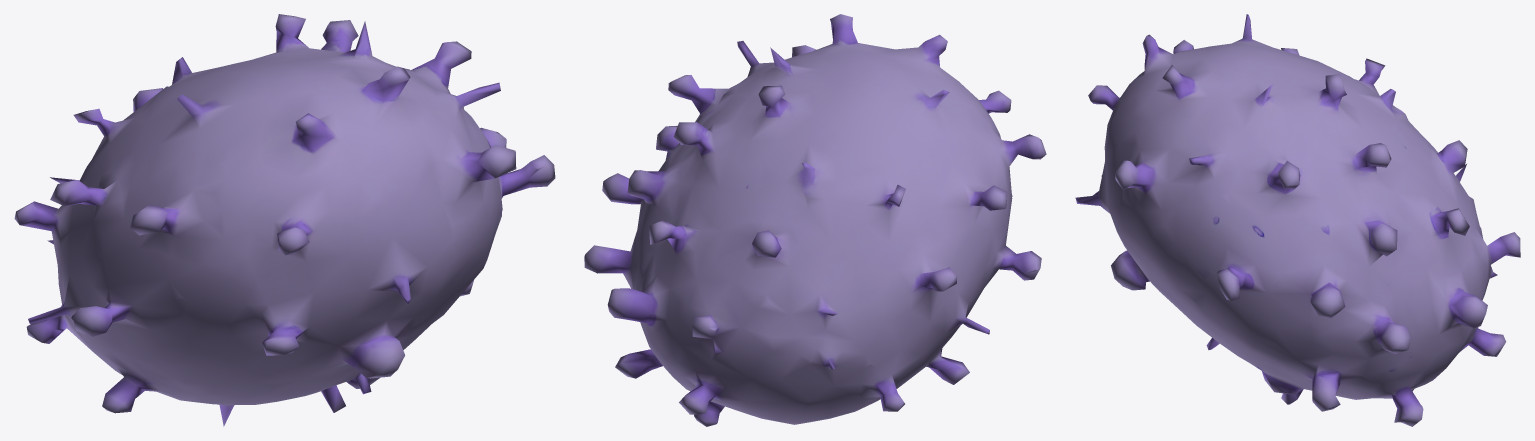
Rendered from bcell.glb.
3 renders of one model, left to right at view 1: azimuth 30°, elevation 25°; view 2: azimuth 150°, elevation 25°; view 3: azimuth 270°, elevation 25°, orthographic. The views are drawn at different scales.
Visible parts, largest first — view 1: bcell; view 2: bcell; view 3: bcell.
Part boxes in pixels (left/top/right/bottom): bcell: left=14, top=14, right=555, bottom=426; bcell: left=584, top=14, right=1046, bottom=426; bcell: left=1075, top=14, right=1520, bottom=426.
Bounding box in the file's own units: 2.76 × 2.23 × 2.63.
1 material, 1 textured.
